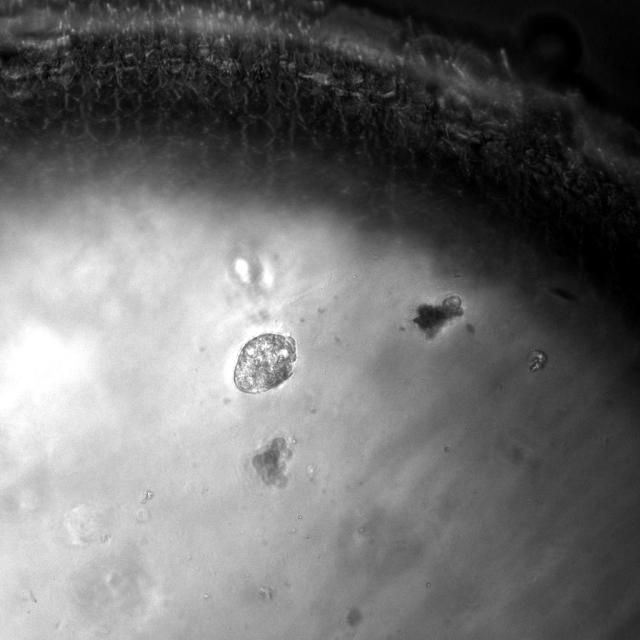organoid: (234, 334, 296, 392), (412, 294, 463, 338), (252, 438, 292, 487), (528, 349, 548, 372)
